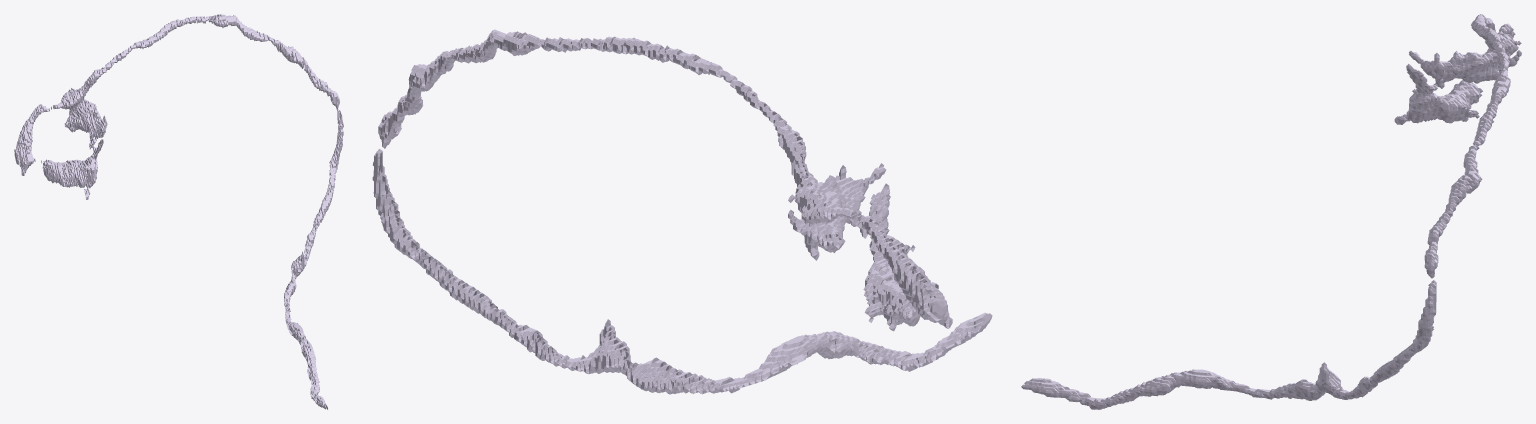
The model's file is SVV_RMHR.gltf.
3 renders of one model, left to right at view 1: azimuth 30°, elevation 25°; view 2: azimuth 150°, elevation 25°; view 3: azimuth 270°, elevation 25°, orthographic. The views are drawn at different scales.
Parts seen in each view (by area): view 1: RMHR; view 2: RMHR; view 3: RMHR.
Part boxes in pixels (x1,y1,x2,y2): RMHR: (14,14,343,409); RMHR: (372,29,992,394); RMHR: (1021,14,1521,409).
Size of the model in its own units: 123701 by 104221 by 125790.
